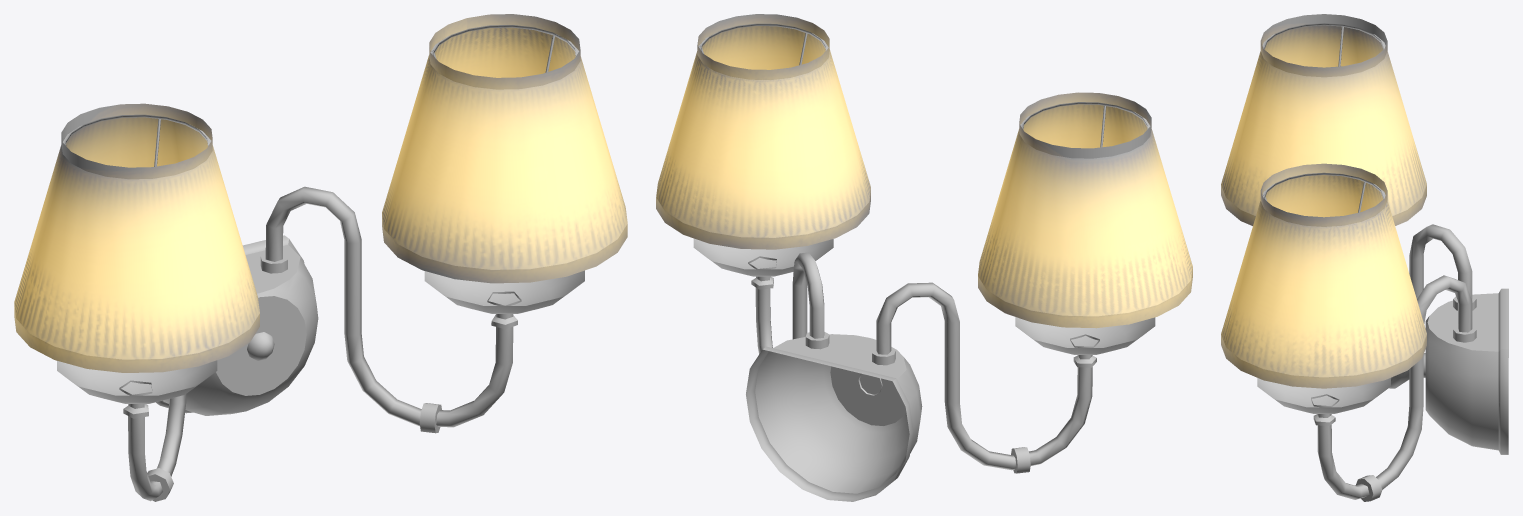
The model's file is walllight.gltf.
3 renders of one model, left to right at view 1: azimuth 30°, elevation 25°; view 2: azimuth 150°, elevation 25°; view 3: azimuth 270°, elevation 25°, orthographic. The views are drawn at different scales.
Parts seen in each view (by area): view 1: WallLight; view 2: WallLight; view 3: WallLight.
Part boxes in pixels (x1,y1,x2,y2): WallLight: [14, 14, 627, 501]; WallLight: [656, 14, 1192, 501]; WallLight: [1221, 14, 1508, 501].
Size of the model in its own units: 96.99 by 63.37 by 49.85.
